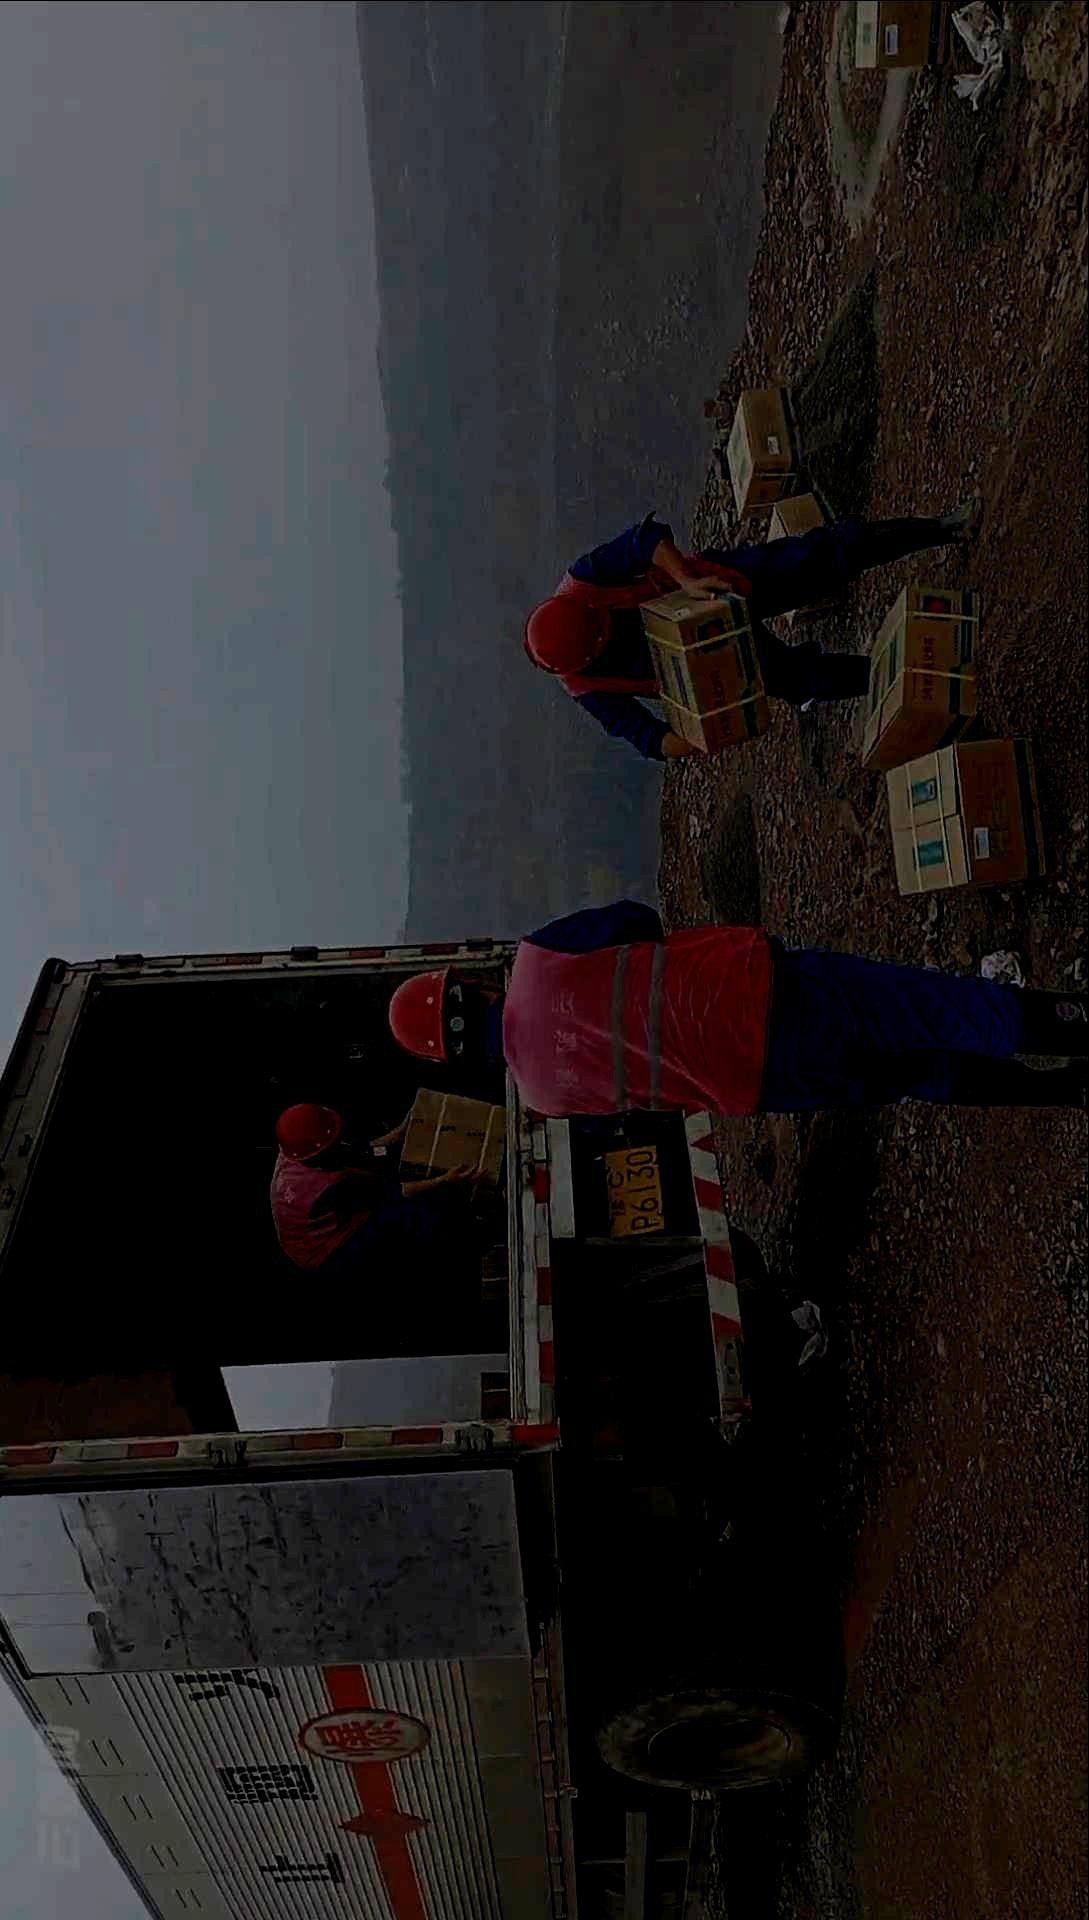helmet: (389, 964, 501, 1062), (521, 592, 609, 676), (276, 1102, 341, 1162)
